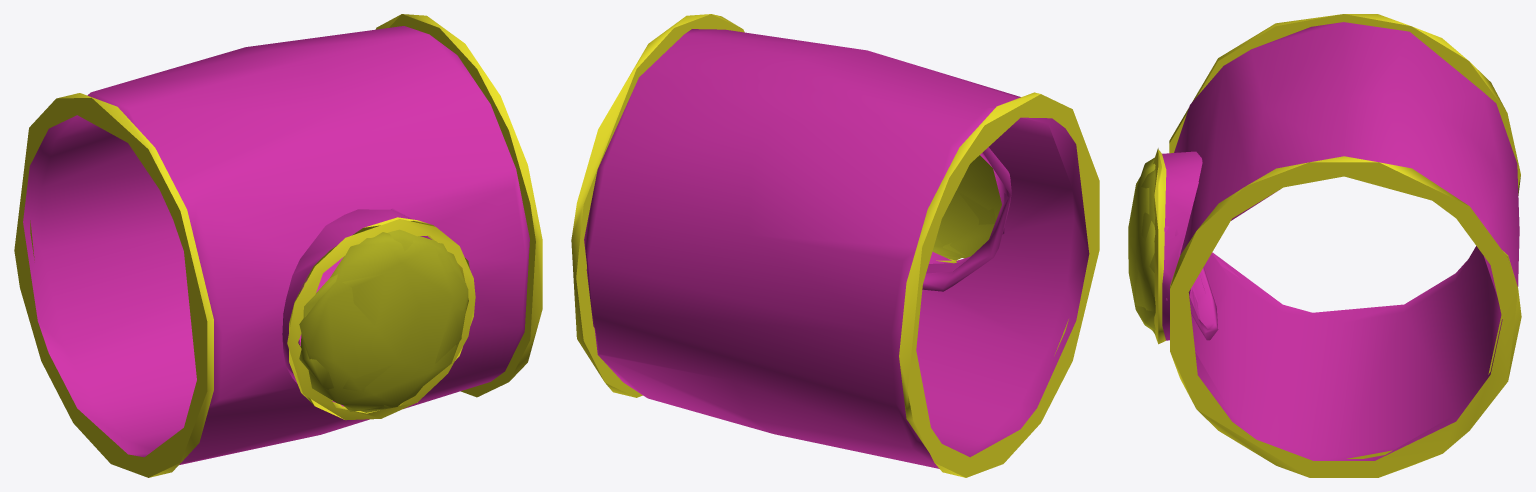
Rendered from tubo2_LOD2.fbx.
The picture shows the model from 3 angles, left to right: view 1: azimuth 30°, elevation 25°; view 2: azimuth 150°, elevation 25°; view 3: azimuth 270°, elevation 25°; orthographic projection. The views are drawn at different scales.
Parts seen in each view (by area): view 1: tubo2; view 2: tubo2; view 3: tubo2.
Part boxes in pixels (left/top/right/bottom): tubo2: left=14, top=14, right=542, bottom=477; tubo2: left=571, top=14, right=1099, bottom=477; tubo2: left=1128, top=14, right=1521, bottom=477.
Size of the model in its own units: 403 by 408 by 451.
